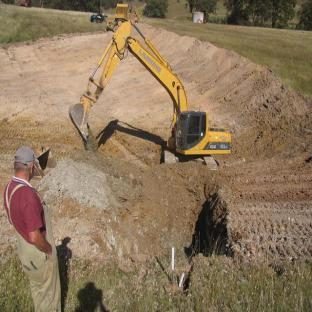ExcavationMachinery: (57, 11, 263, 183)
